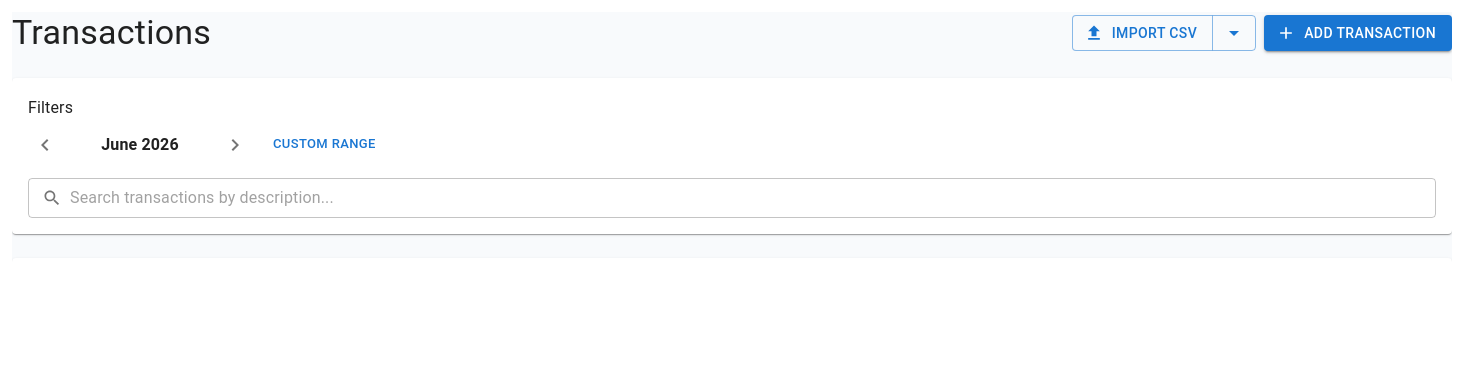
Test: TransactionsPage Integration › reveals the custom date range picker when Custom range is clicked
Check: the text "filter by date" is not shown
Click the button "Custom range" at (324, 145), box left=268, top=129, right=381, bottom=160
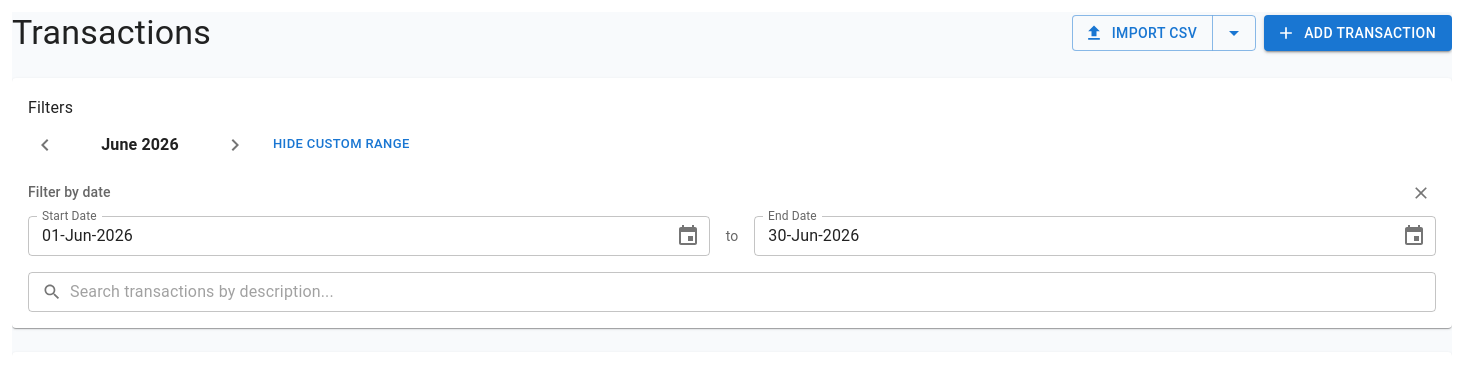
Check: the heading "Filter by date" is shown, box left=28, top=182, right=111, bottom=204
